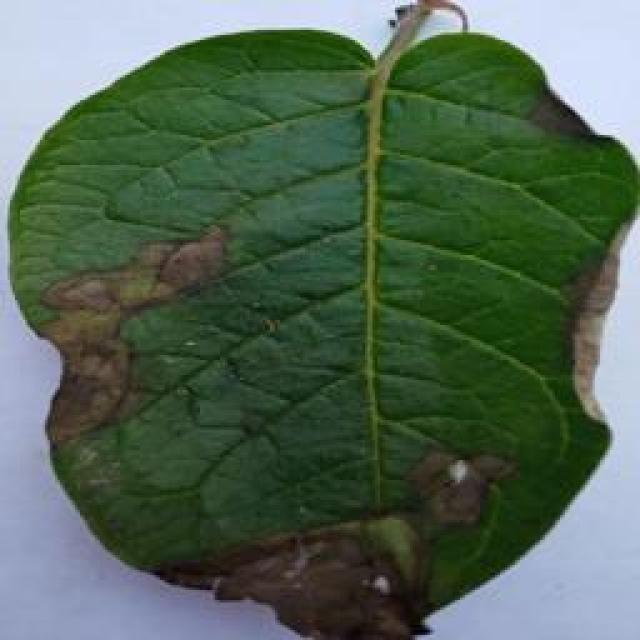Potato_Late_Blight: (10, 6, 625, 632)
